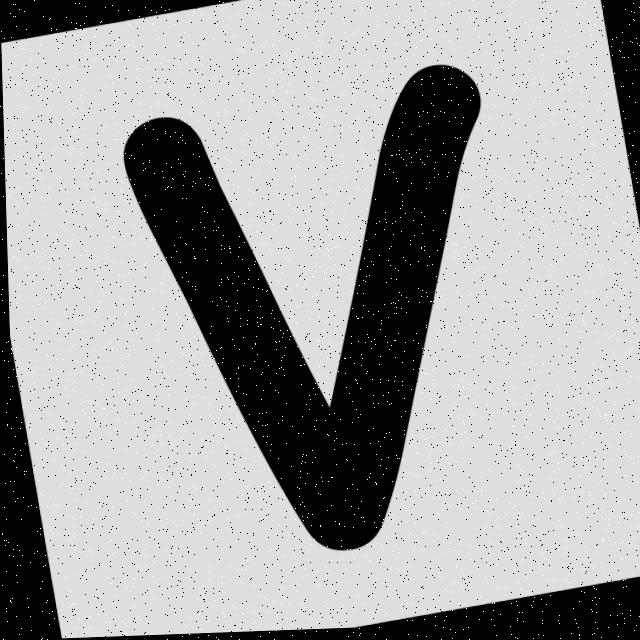V: (123, 69, 480, 552)
